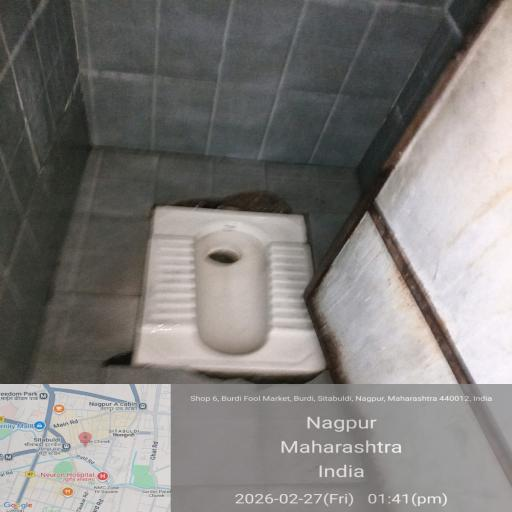clean_floor: (24, 0, 455, 164)
partial_dirty_indian: (144, 199, 310, 375)
